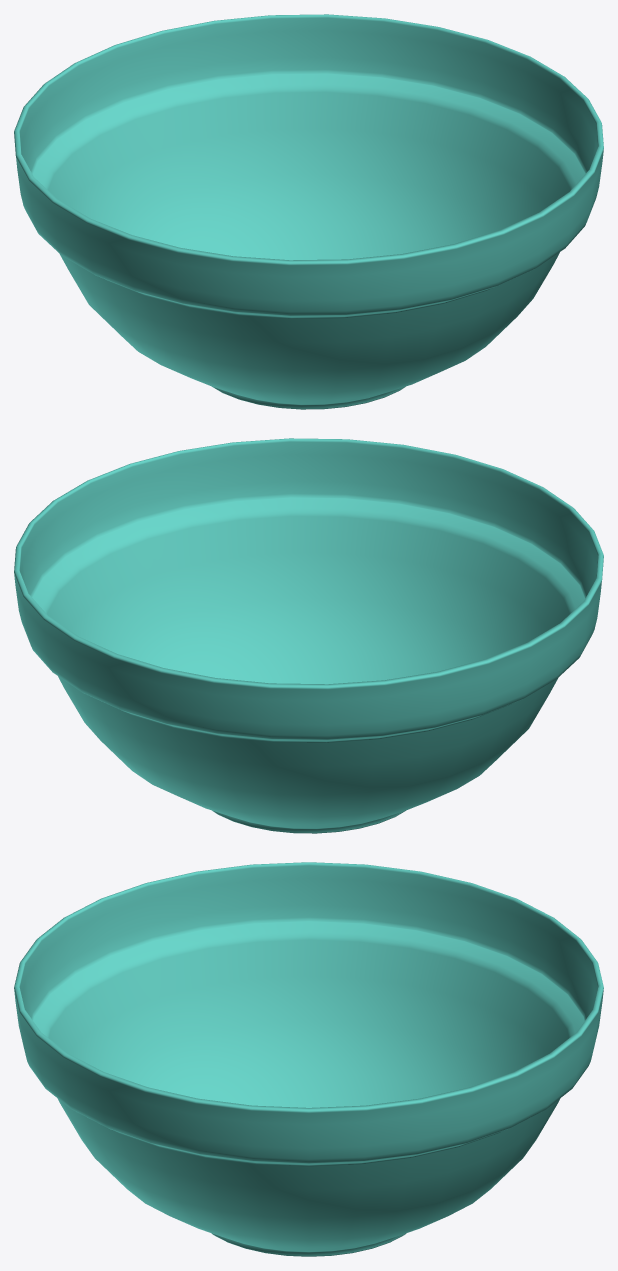
File: mangkok kaca.fbx
3 renders of one model, top to bottom at view 1: azimuth 30°, elevation 25°; view 2: azimuth 150°, elevation 25°; view 3: azimuth 270°, elevation 25°, orthographic.
Parts seen in each view (by area): view 1: Circle; view 2: Circle; view 3: Circle.
Boxes of the visible parts, x1,y1,x2,y2 form: Circle: [14, 14, 603, 409]; Circle: [14, 438, 603, 833]; Circle: [14, 862, 603, 1256].
Size of the model in its own units: 129 by 53.99 by 129.
1 material, 1 textured.
